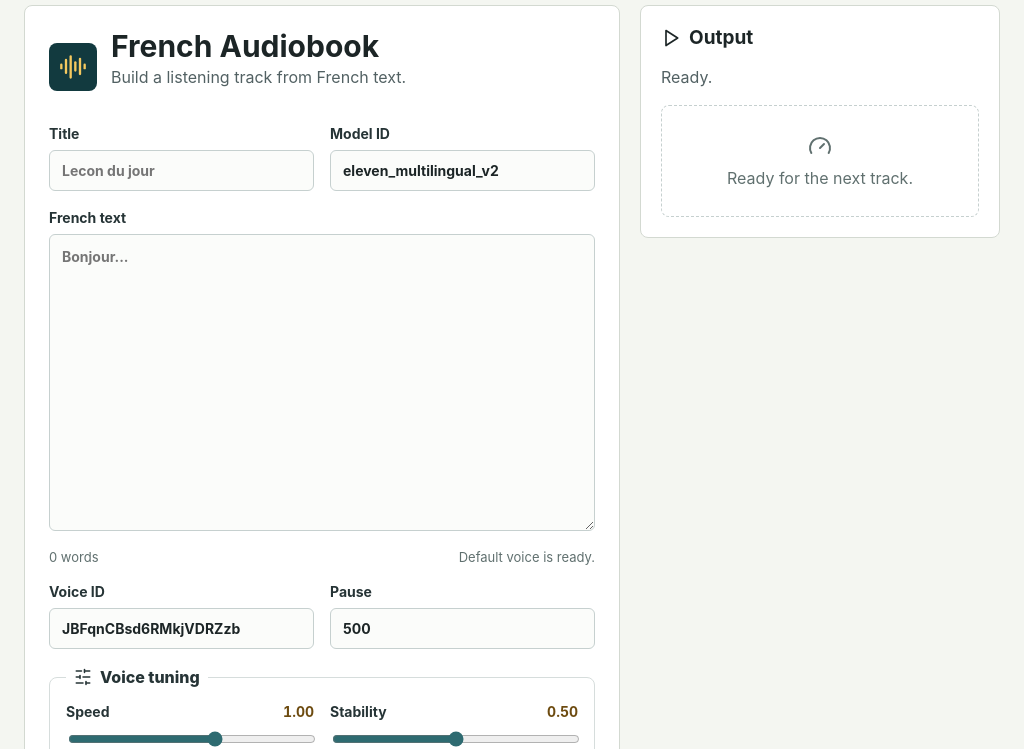
Scenario: App › warns after generation when ElevenLabs quota is running low
This screenshot has width=1024, height=749.
Type "Bonjour." into the text box labelled "French text" at {"x": 322, "y": 382}, box [49, 234, 595, 531]
(page scrolled)
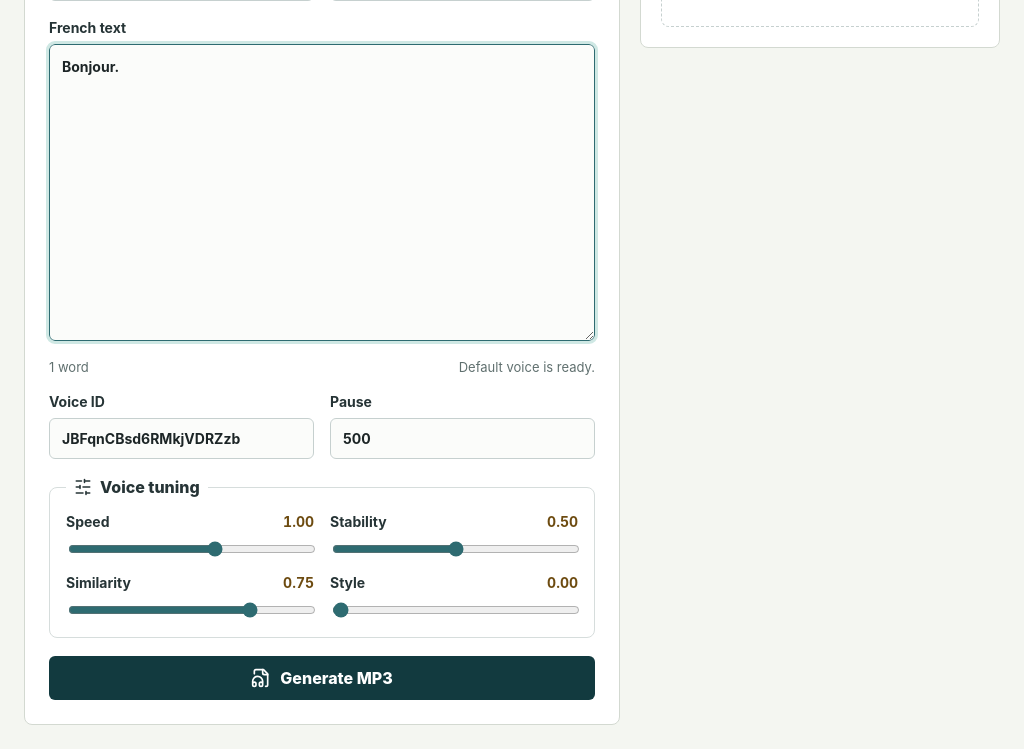
Click the button "Generate MP3" at {"x": 322, "y": 678}, box [49, 656, 595, 700]
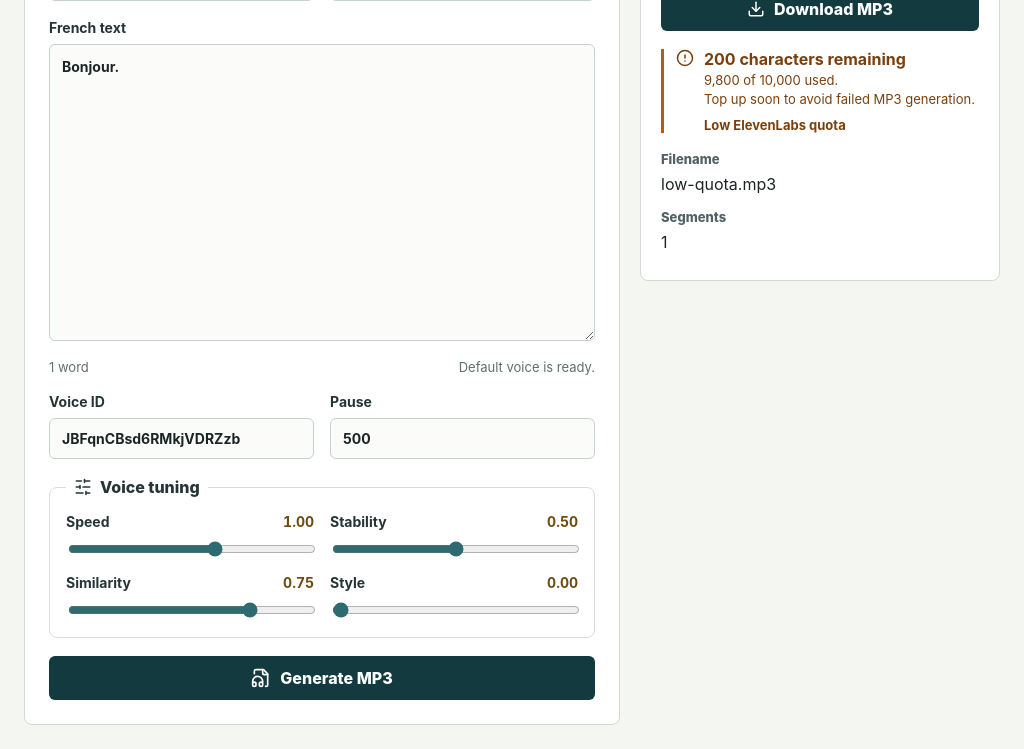
expect the text "200 characters remaining" is shown: met, box [704, 49, 906, 69]
expect the text "Low ElevenLabs quota" is shown: met, box [704, 117, 846, 133]
expect the text "Top up soon to avoid failed MP3 generation." is shown: met, box [704, 91, 979, 107]
